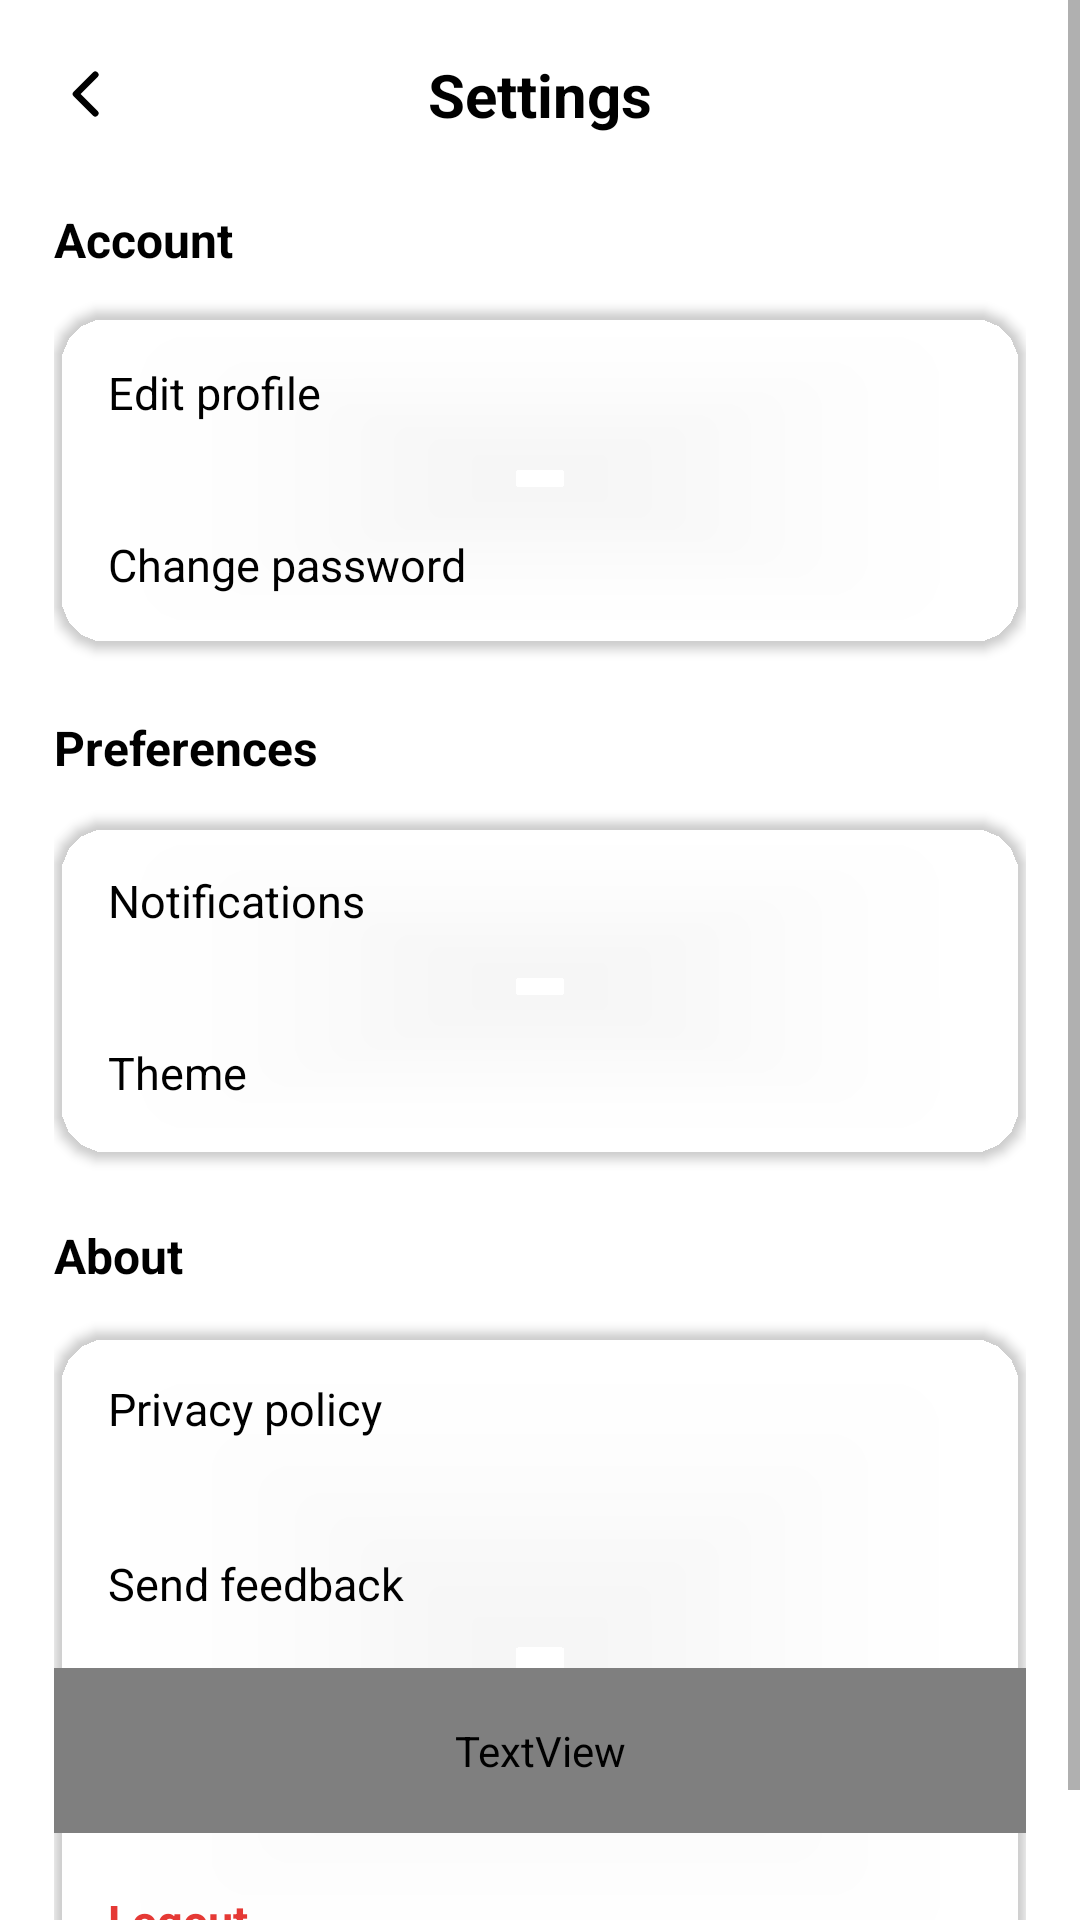

Screen size 1080*1920. Icon name, then its center in pixels as (x=x, y=y):
arrow back: (x=85, y=94)
